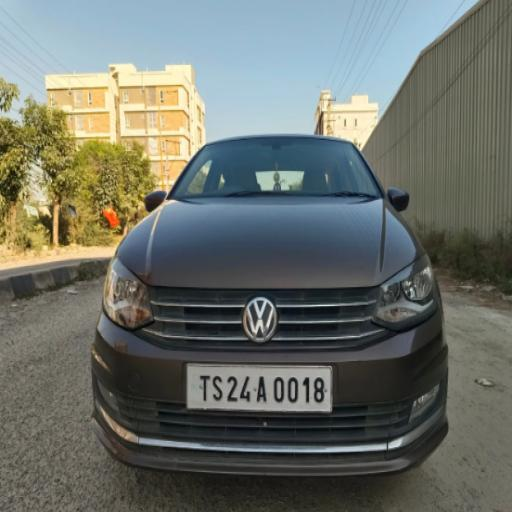License: (186, 360, 332, 411)
